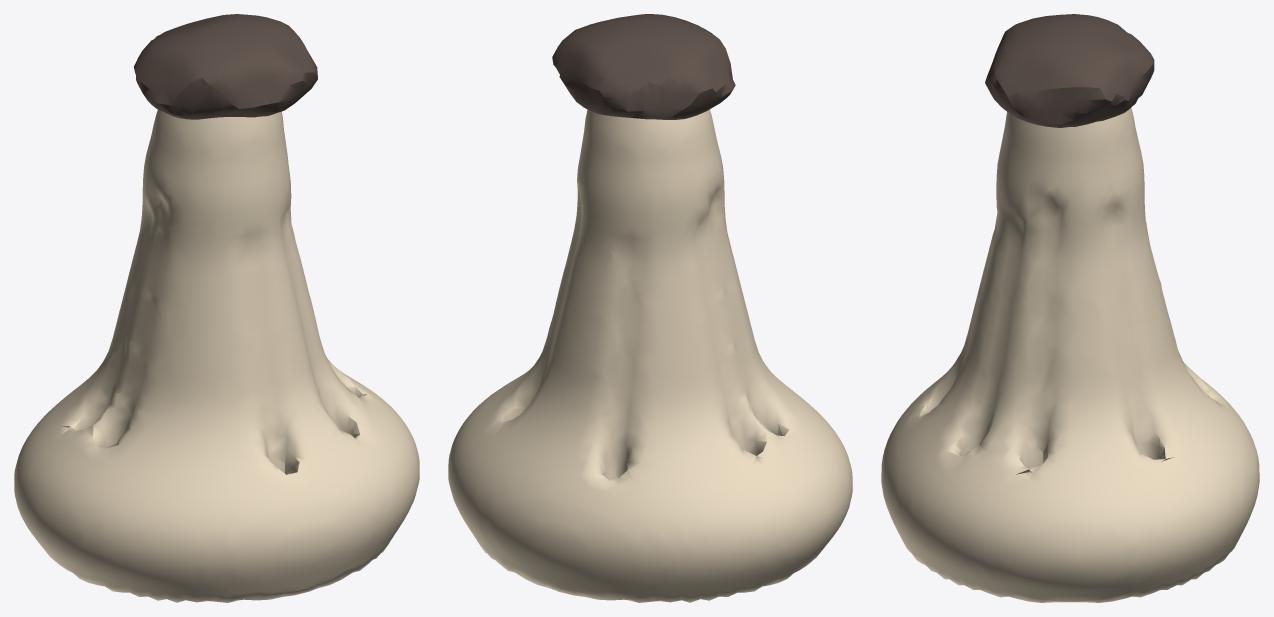
The model's file is chimney-cap.glb.
3 views of the same model, side by side, from view 1: azimuth 30°, elevation 25°; view 2: azimuth 150°, elevation 25°; view 3: azimuth 270°, elevation 25° (orthographic).
Visible parts, largest first — view 1: body, cap0; view 2: body, cap0; view 3: body, cap0.
Boxes of the visible parts, x1,y1,x2,y2 form: body: (14,109,419,602); cap0: (134,14,317,119); body: (448,109,852,602); cap0: (552,14,735,119); body: (881,108,1259,602); cap0: (985,14,1154,127).
Size of the model in its own units: 6.8 by 9.07 by 6.19.
